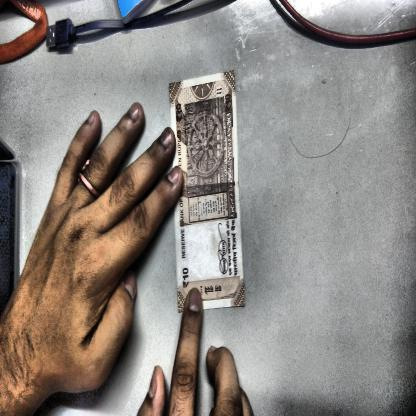Rs10: (182, 265, 190, 288), (224, 92, 233, 112)
